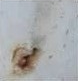Corrosion: (10, 45, 41, 77)
